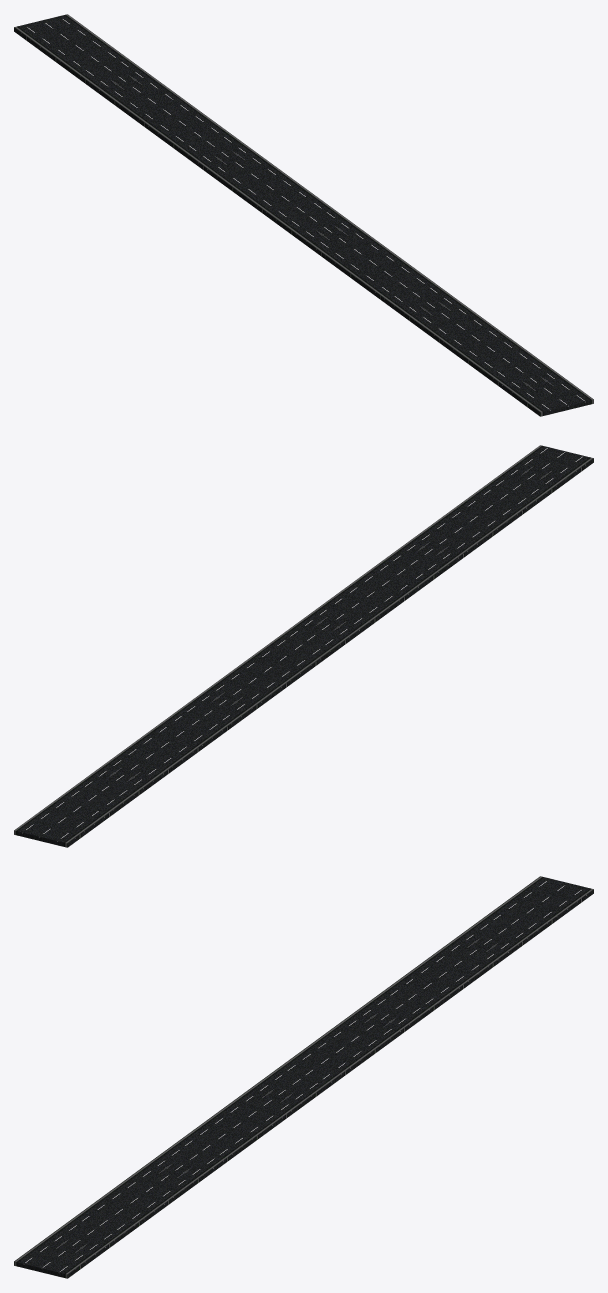
File: DRoad5.glb
3 renders of one model, top to bottom at view 1: azimuth 30°, elevation 25°; view 2: azimuth 150°, elevation 25°; view 3: azimuth 330°, elevation 25°, orthographic.
Visible parts, largest first — view 1: DRoad5; view 2: DRoad5; view 3: DRoad5.
Boxes of the visible parts, <box> form: DRoad5: <box>14,14,593,416</box>; DRoad5: <box>14,445,593,847</box>; DRoad5: <box>14,876,593,1278</box>.
Bounding box in the file's own units: 578 × 44 × 9824.
1 material, 1 textured.
